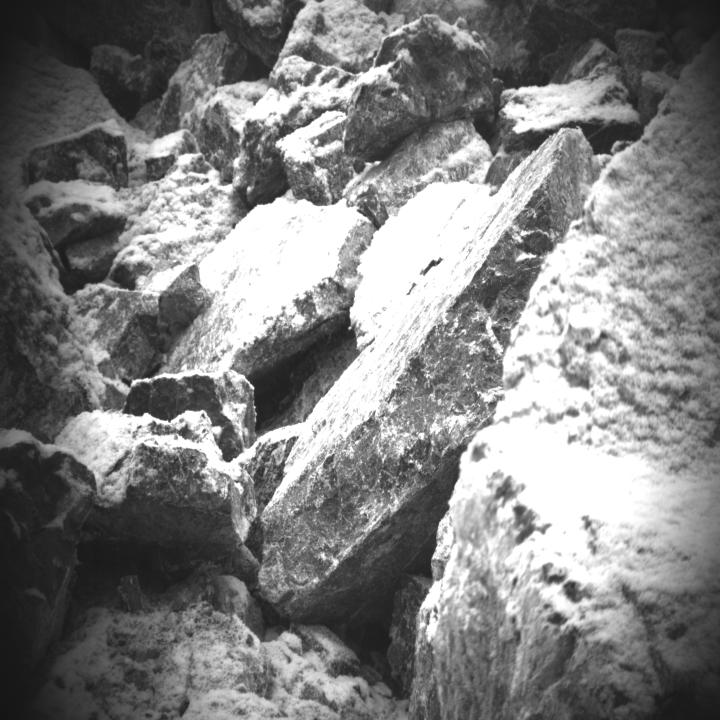stone: (260, 128, 595, 623), (160, 197, 376, 384), (233, 0, 388, 205), (52, 408, 256, 560), (343, 14, 494, 163), (66, 284, 162, 382), (276, 110, 364, 204), (20, 180, 130, 252), (148, 263, 206, 325)
